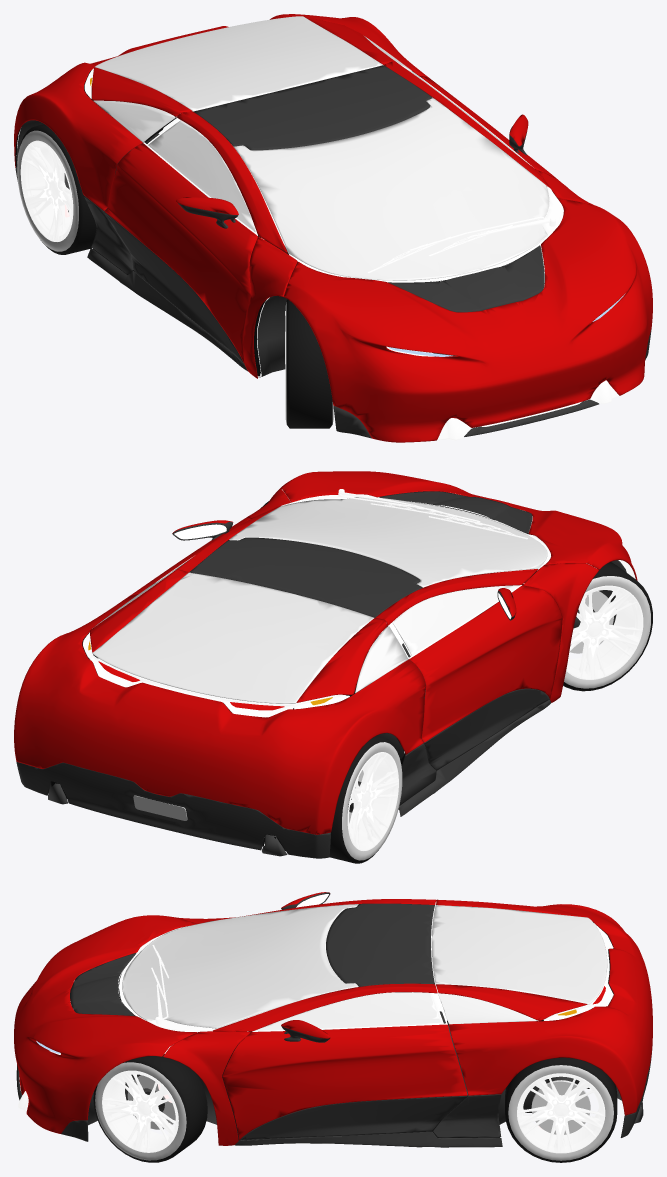
Rendered from concept.glb.
The picture shows the model from 3 angles, top to bottom: view 1: azimuth 30°, elevation 25°; view 2: azimuth 150°, elevation 25°; view 3: azimuth 270°, elevation 25°; orthographic projection. The views are drawn at different scales.
Parts seen in each view (by area): view 1: BodyHood, BodyWindshield, BodyRearwindow, BodyDoorRColor1, BodyRearPanelsColor1, BodyRoofPanel, BodyPillars, BodyPanelsColor2, BodyHoodTopgrill, WheelFrontR, BodyDoorRWindow, WheelRearRRim (+9 smaller); view 2: BodyRearPanelsColor1, BodyRearwindow, BodyWindshield, BodyDoorRColor1, BodyPanelsColor2, BodyRoofPanel, BodyHood, BodyPillars, WheelFrontRRim, BodyDoorRColor2, WheelRearRRim, BodyDoorRWindow (+8 smaller); view 3: BodyWindshield, BodyRearPanelsColor1, BodyDoorLColor1, BodyHood, BodyRearwindow, BodyRoofPanel, BodyPillars, BodyDoorLColor2, BodyPanelsColor2, WheelFrontL, WheelRearLRim, WheelFrontLRim (+12 smaller).
Part boxes in pixels (left/top/right/bottom): BodyHood: left=283, top=198, right=652, bottom=442; BodyWindshield: left=234, top=98, right=549, bottom=280; BodyRearwindow: left=94, top=16, right=382, bottom=111; BodyDoorRColor1: left=104, top=143, right=257, bottom=363; BodyRearPanelsColor1: left=14, top=14, right=428, bottom=210; BodyRoofPanel: left=193, top=65, right=432, bottom=150; BodyPillars: left=176, top=61, right=598, bottom=378; BodyPanelsColor2: left=15, top=167, right=651, bottom=438; BodyHoodTopgrill: left=388, top=245, right=544, bottom=312; WheelFrontR: left=285, top=299, right=333, bottom=428; BodyDoorRWindow: left=148, top=120, right=257, bottom=234; WheelRearRRim: left=20, top=140, right=73, bottom=241; BodyRearPanelsColor1: left=14, top=569, right=425, bottom=834; BodyRearwindow: left=92, top=572, right=373, bottom=703; BodyWindshield: left=229, top=497, right=547, bottom=587; BodyDoorRColor1: left=409, top=585, right=562, bottom=742; BodyPanelsColor2: left=16, top=700, right=550, bottom=858; BodyRoofPanel: left=189, top=537, right=422, bottom=617; BodyHood: left=279, top=471, right=637, bottom=580; BodyPillars: left=175, top=489, right=599, bottom=702; WheelFrontRRim: left=566, top=585, right=643, bottom=679; BodyDoorRColor2: left=424, top=688, right=549, bottom=769; WheelRearRRim: left=347, top=752, right=398, bottom=850; BodyDoorRWindow: left=392, top=585, right=519, bottom=655; BodyWindshield: left=122, top=904, right=358, bottom=1028; BodyRearPanelsColor1: left=436, top=899, right=652, bottom=1115; BodyDoorLColor1: left=222, top=1024, right=467, bottom=1139; BodyHood: left=14, top=915, right=196, bottom=1133; BodyRearwindow: left=431, top=905, right=607, bottom=1004; BodyRoofPanel: left=326, top=903, right=434, bottom=986; BodyPillars: left=163, top=899, right=437, bottom=1145; BodyDoorLColor2: left=240, top=1096, right=467, bottom=1140; BodyPanelsColor2: left=16, top=1045, right=652, bottom=1147; WheelFrontL: left=93, top=1054, right=207, bottom=1162; WheelRearLRim: left=517, top=1073, right=605, bottom=1153; WheelFrontLRim: left=102, top=1070, right=178, bottom=1152.
Size of the model in its own units: 2.54 by 1.15 by 4.36.
